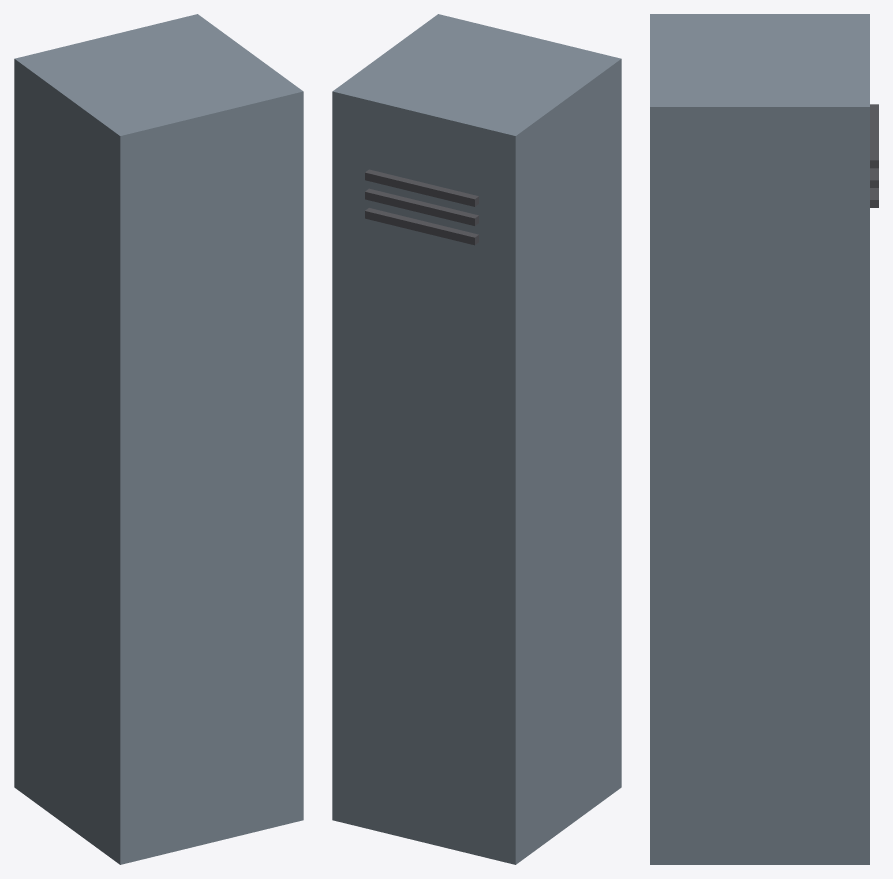
File: locker.gltf
3 views of the same model, side by side, from view 1: azimuth 30°, elevation 25°; view 2: azimuth 150°, elevation 25°; view 3: azimuth 270°, elevation 25° (orthographic). The views are drawn at different scales.
Visible parts, largest first — view 1: locker; view 2: locker; view 3: locker.
Part boxes in pixels (<box>): locker: <box>14,14,303,864</box>; locker: <box>332,14,621,864</box>; locker: <box>650,14,878,864</box>.
Size of the model in its own units: 0.5 by 1.9 by 0.52.
